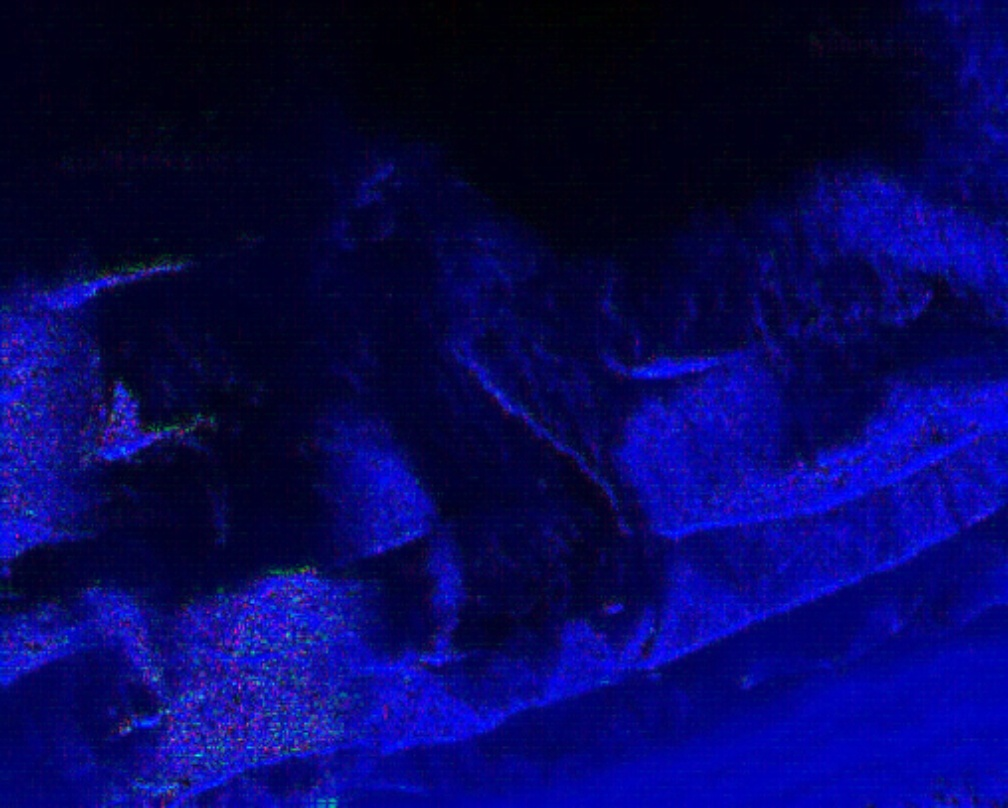rip_current: (264, 128, 682, 656)
